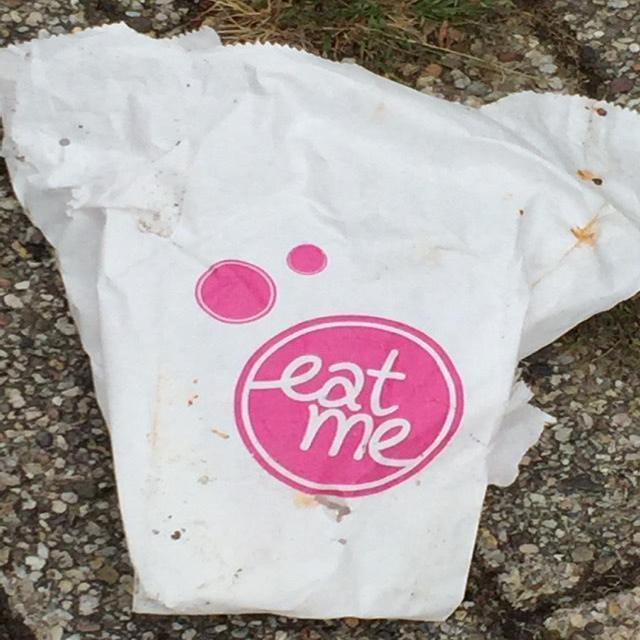Paper: (0, 18, 640, 626)
